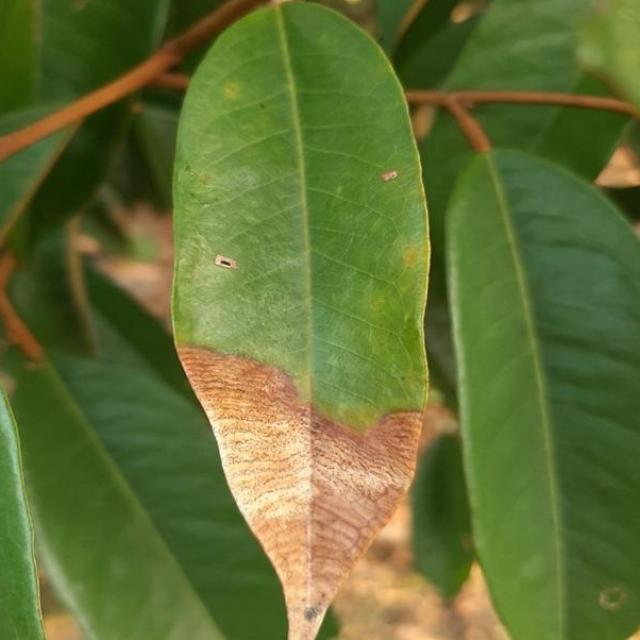Leaf Blight: (160, 2, 448, 640)
